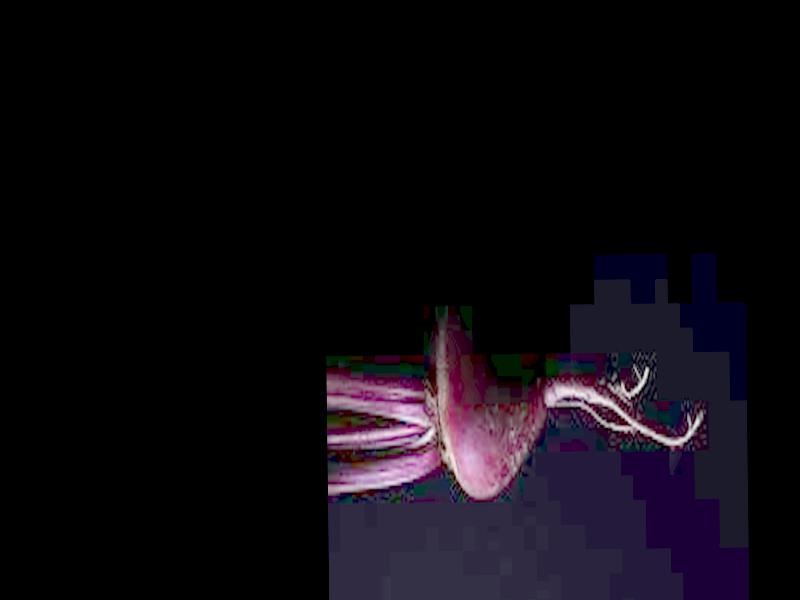Beet: (327, 302, 704, 512)
